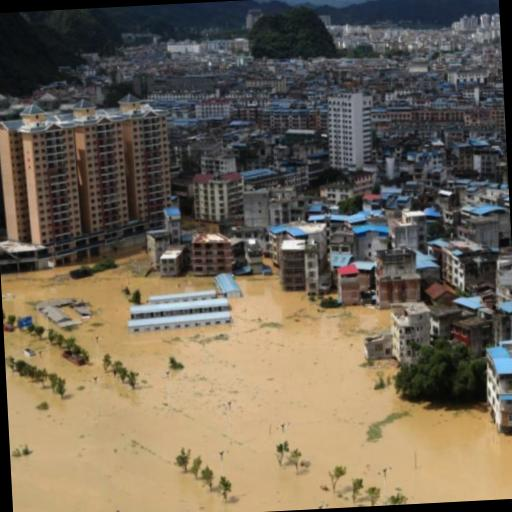flood: (1, 247, 512, 512)
house: (0, 105, 177, 250), (124, 298, 235, 336), (438, 242, 500, 296), (326, 89, 365, 173), (389, 302, 435, 368), (192, 170, 246, 222), (483, 340, 512, 436), (374, 248, 422, 304), (180, 232, 236, 276), (144, 80, 222, 104), (452, 314, 493, 356), (278, 237, 308, 292), (457, 208, 500, 246), (454, 14, 502, 48), (320, 174, 374, 204), (354, 224, 392, 264), (268, 105, 314, 133), (266, 188, 300, 224), (274, 160, 312, 190), (240, 73, 289, 96), (334, 264, 362, 304), (404, 208, 429, 251), (202, 40, 250, 60), (465, 184, 506, 206), (200, 150, 238, 173), (328, 228, 356, 257), (194, 100, 232, 121), (452, 141, 474, 176), (158, 246, 182, 276), (476, 150, 500, 177), (386, 106, 415, 124)
